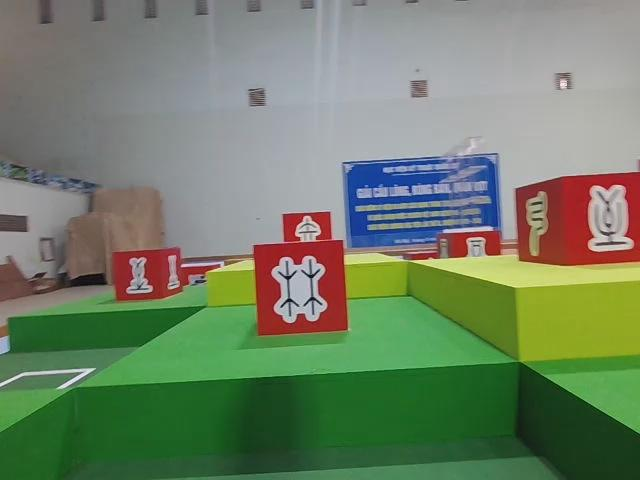R2 Fake: (517, 173, 640, 262)
R2 Real: (252, 242, 350, 337), (108, 249, 189, 301)
